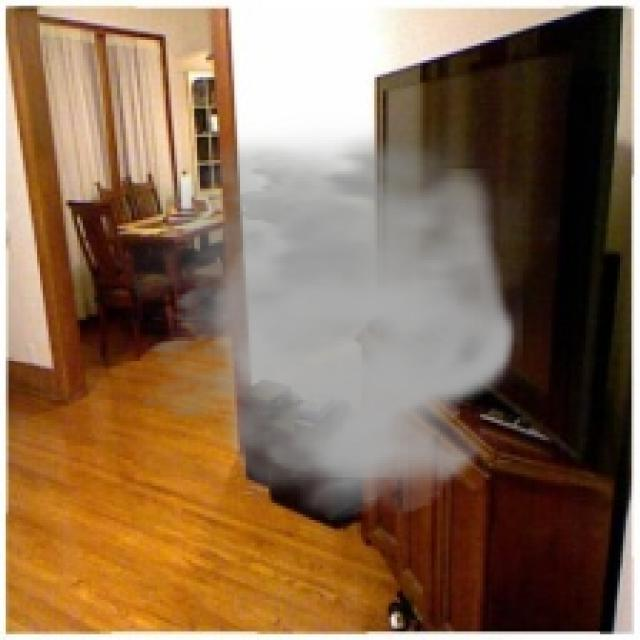smoke: (100, 114, 523, 520)
